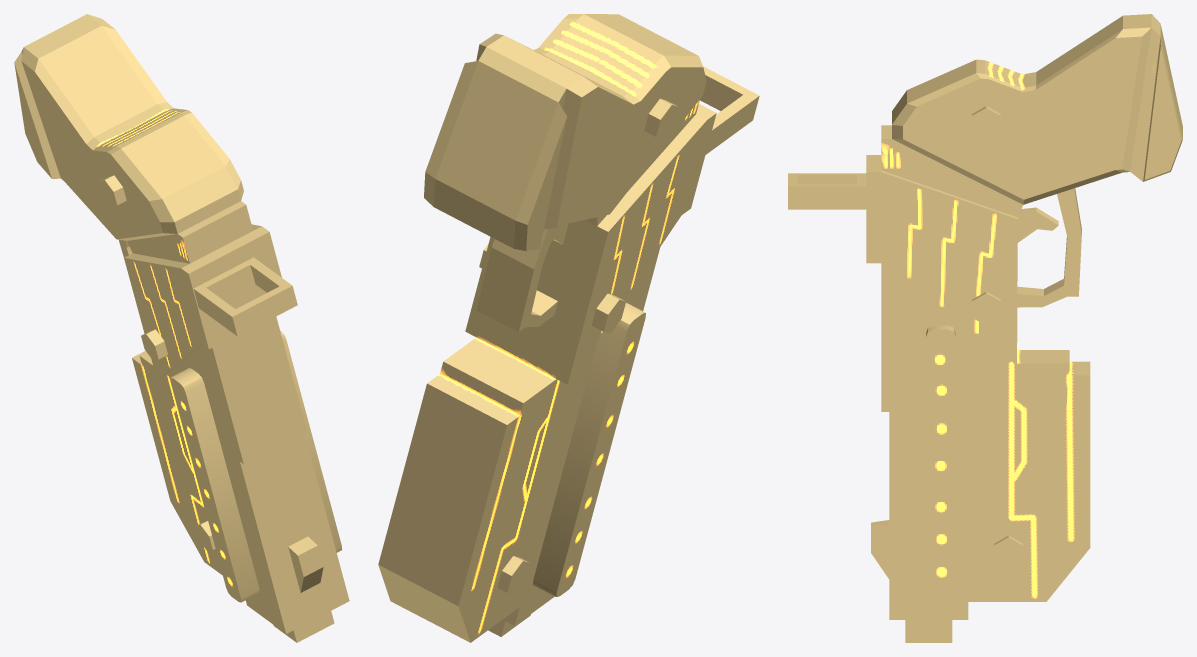
File: HIP_GOLDEN_GUN.fbx
3 views of the same model, side by side, from view 1: azimuth 30°, elevation 25°; view 2: azimuth 150°, elevation 25°; view 3: azimuth 270°, elevation 25° (orthographic). The views are drawn at different scales.
Visible parts, largest first — view 1: HIP_GOLDEN_GUN; view 2: HIP_GOLDEN_GUN; view 3: HIP_GOLDEN_GUN.
Part boxes in pixels (x1=…): HIP_GOLDEN_GUN: x1=14, y1=14, x2=349, y2=642; HIP_GOLDEN_GUN: x1=378, y1=14, x2=759, y2=642; HIP_GOLDEN_GUN: x1=788, y1=14, x2=1182, y2=642.
Size of the model in its own units: 0.00776 by 0.0193 by 0.0123.
